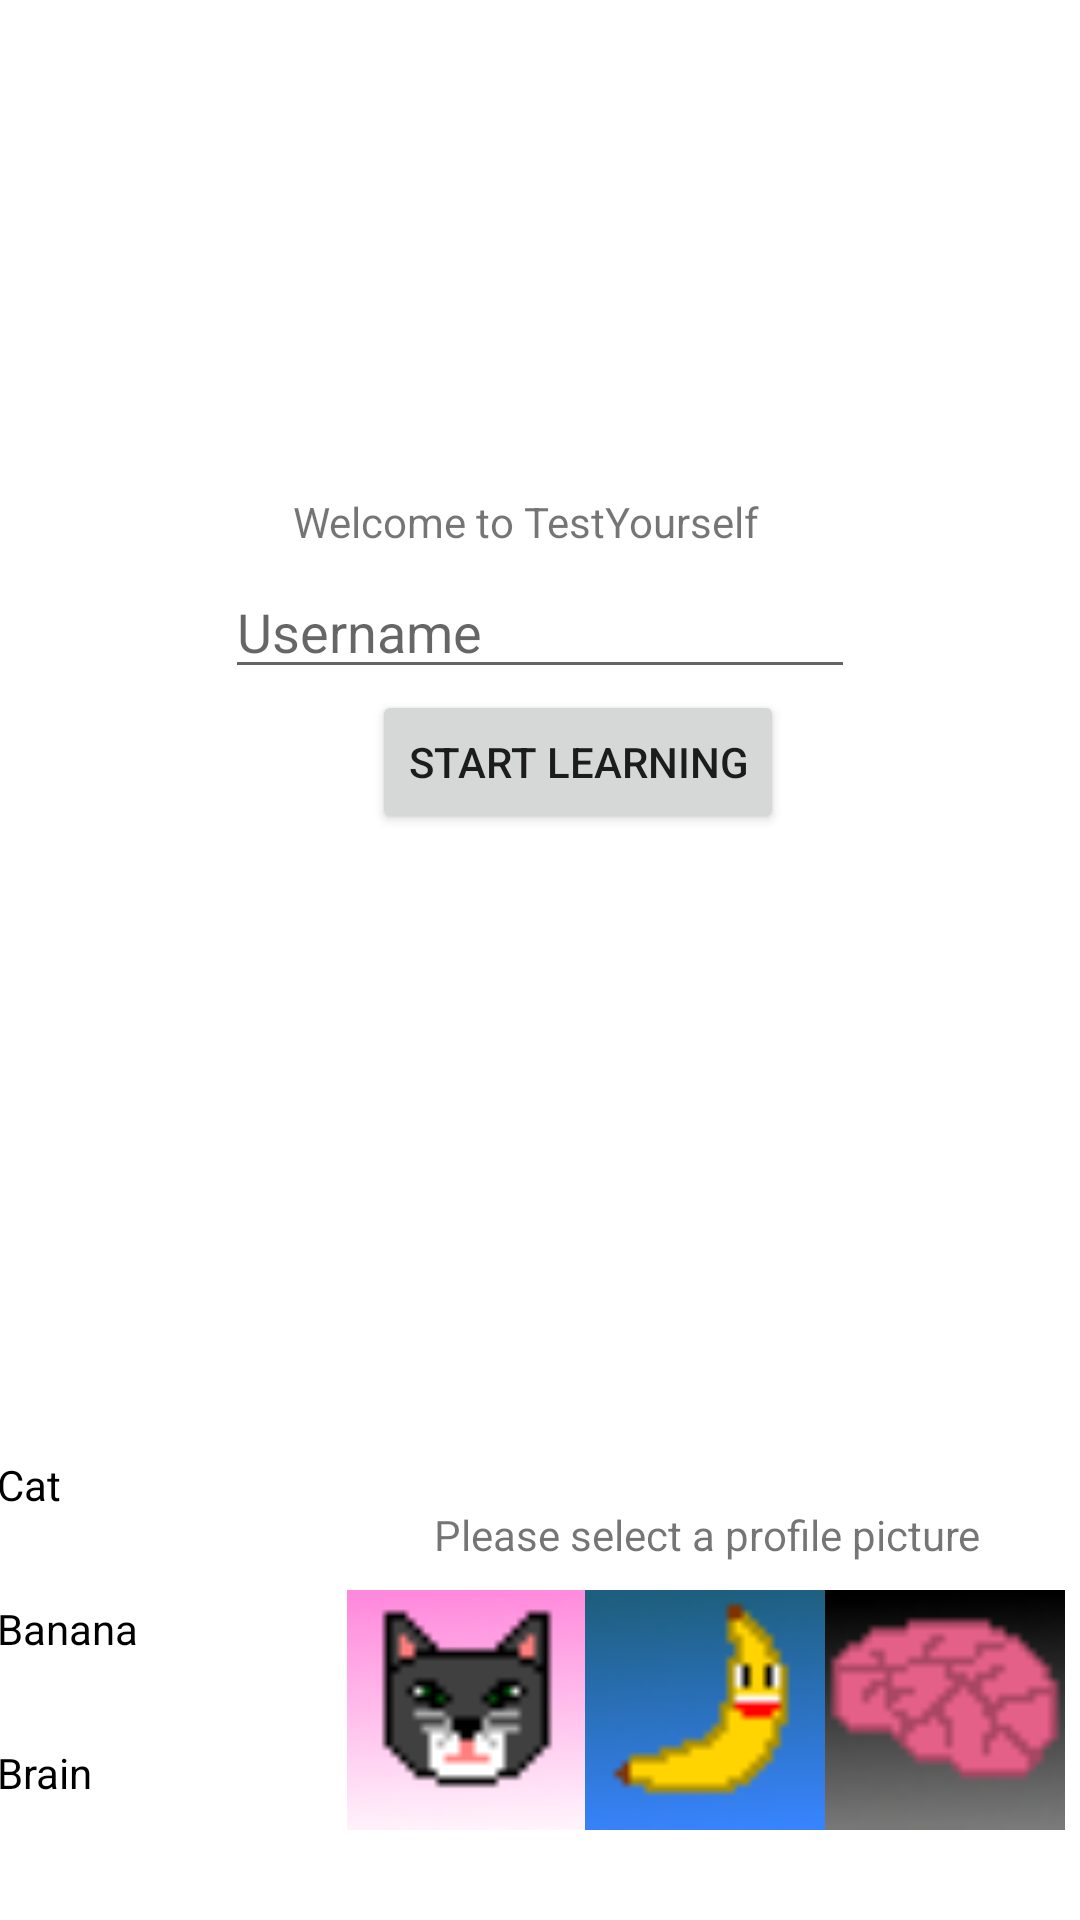

Icon click points for this 1080w x 1920h phone screenshot, format [x,y]:
banana: [705,1710]
brain: [945,1710]
cat: [467,1710]
